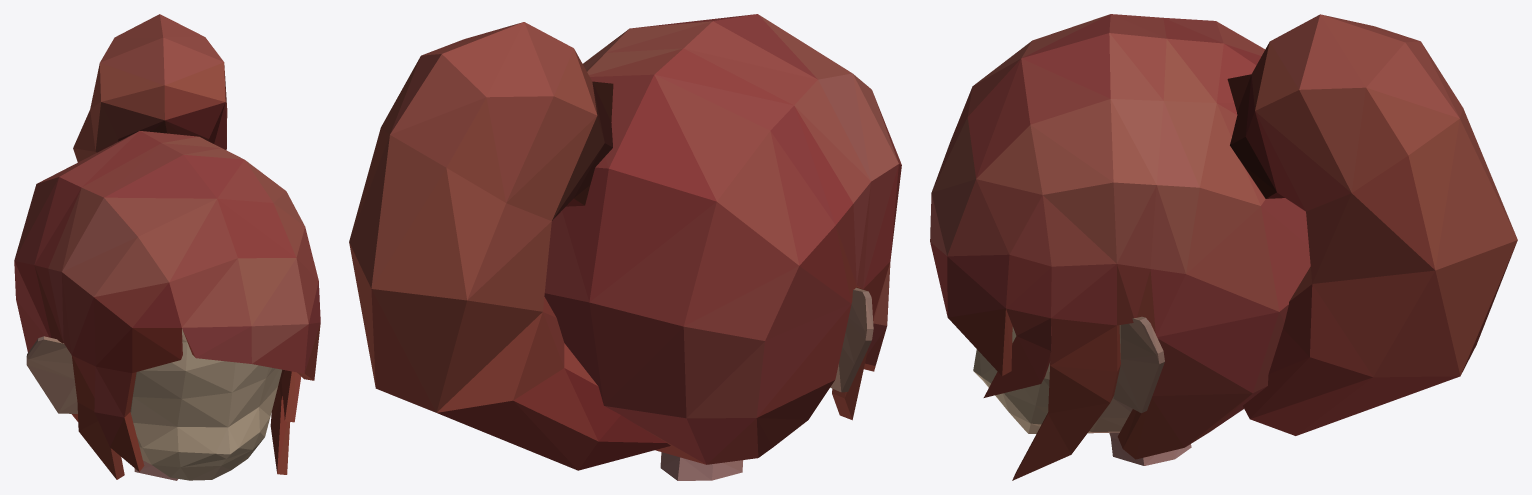
Rendered from helm_lightskin_ponytail_red.fbx.
The picture shows the model from 3 angles, left to right: view 1: azimuth 30°, elevation 25°; view 2: azimuth 150°, elevation 25°; view 3: azimuth 270°, elevation 25°; orthographic projection. The views are drawn at different scales.
Visible parts, largest first — view 1: helm_lightskin_ponytail_red; view 2: helm_lightskin_ponytail_red; view 3: helm_lightskin_ponytail_red.
Boxes of the visible parts, left/top/right/bottom form: helm_lightskin_ponytail_red: left=14, top=14, right=320, bottom=480; helm_lightskin_ponytail_red: left=349, top=14, right=901, bottom=480; helm_lightskin_ponytail_red: left=930, top=14, right=1517, bottom=480.
Bounding box in the file's own units: 1.21 × 1.49 × 1.64.
